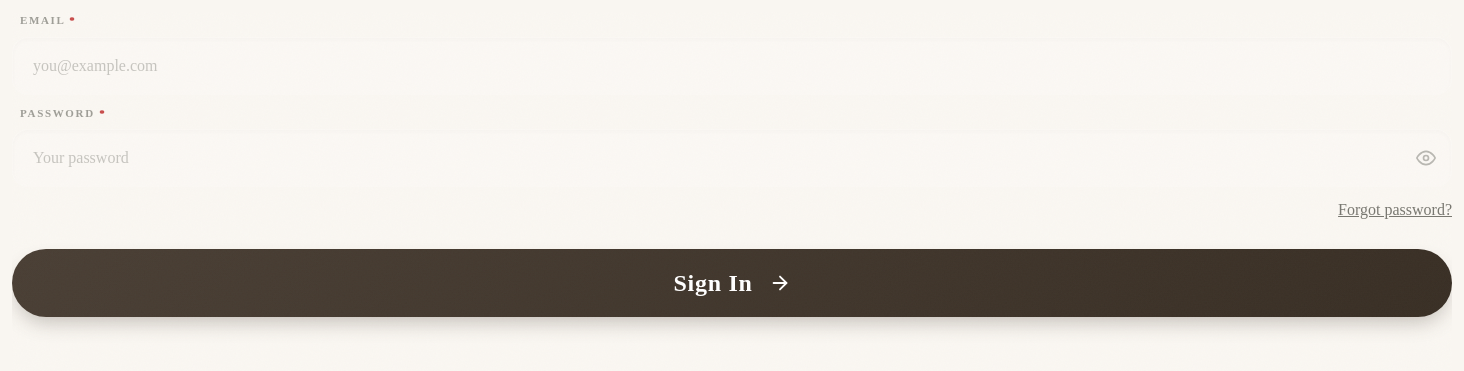
Scenario: LoginForm › shows "Please verify your email first." inline on Email not verified
The width and height of the screenshot is (1464, 371).
Type "jane@example.com" into the field with placeholder "you@example.com" at (732, 66), box [12,36,1452,94]
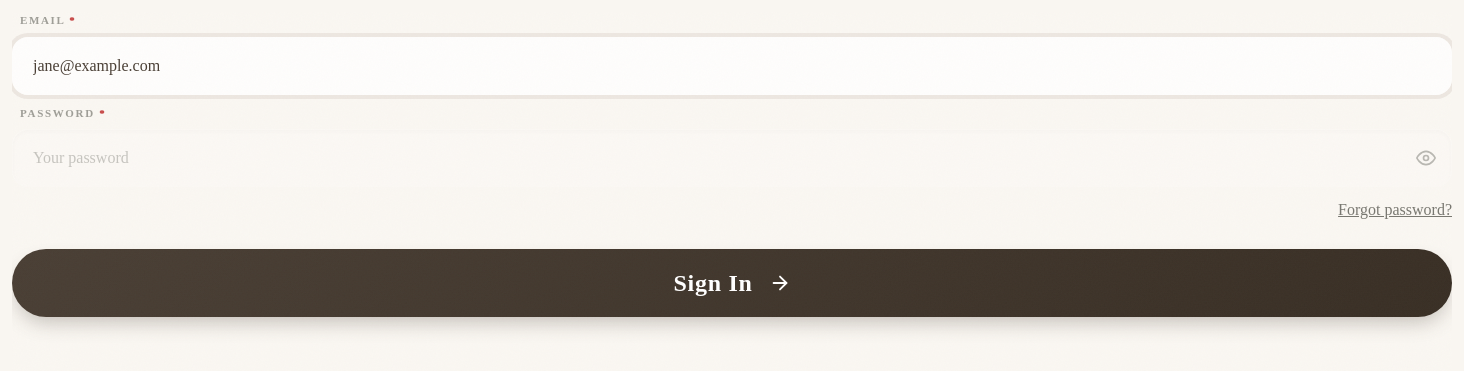
Type "Password1" into the password field with placeholder "Your password" at (732, 158), box [12,129,1452,187]
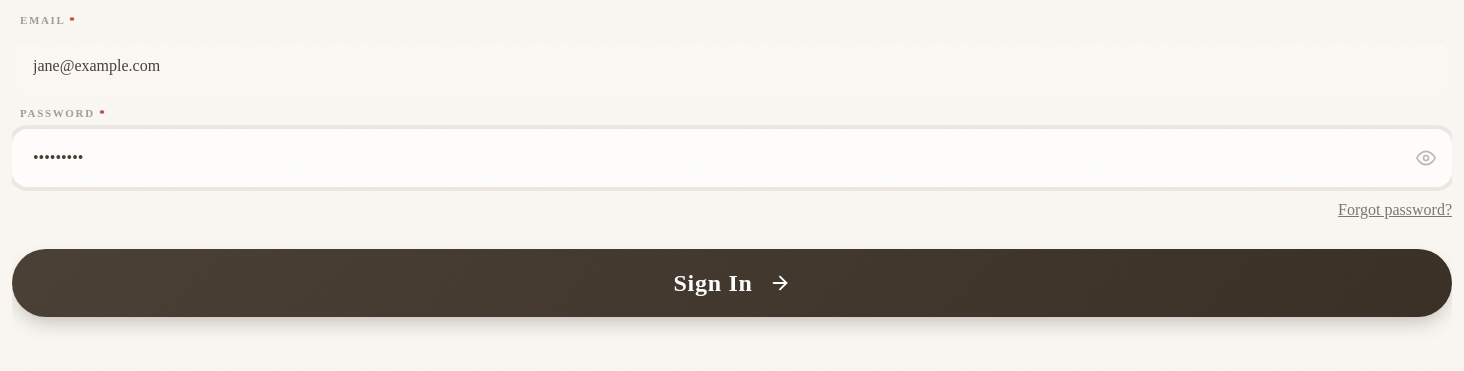
Click the button "Sign In" at (732, 283), box [12,249,1452,317]
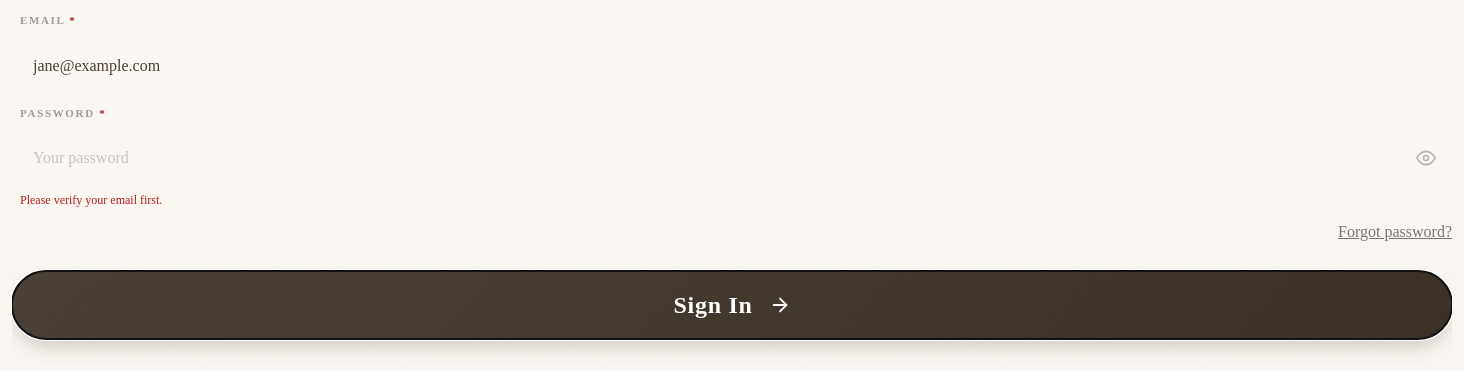
Result: the message reads "Please verify your email first." at [20,193,162,207]
